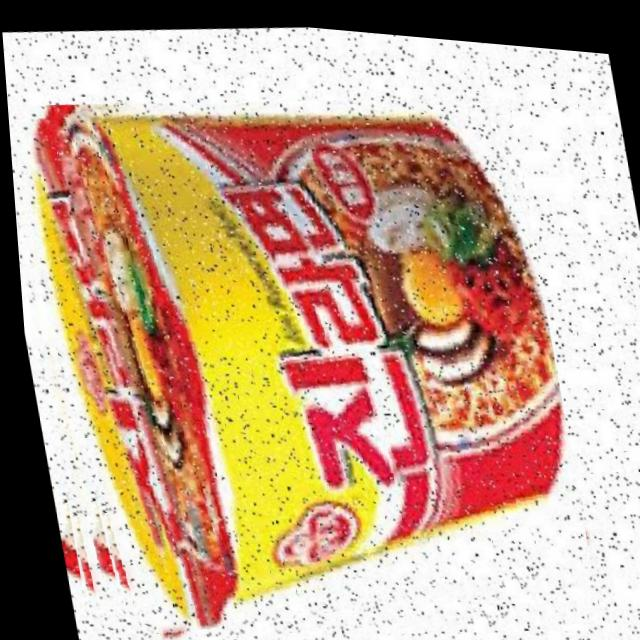Miscellaneous: (3, 52, 596, 640)
